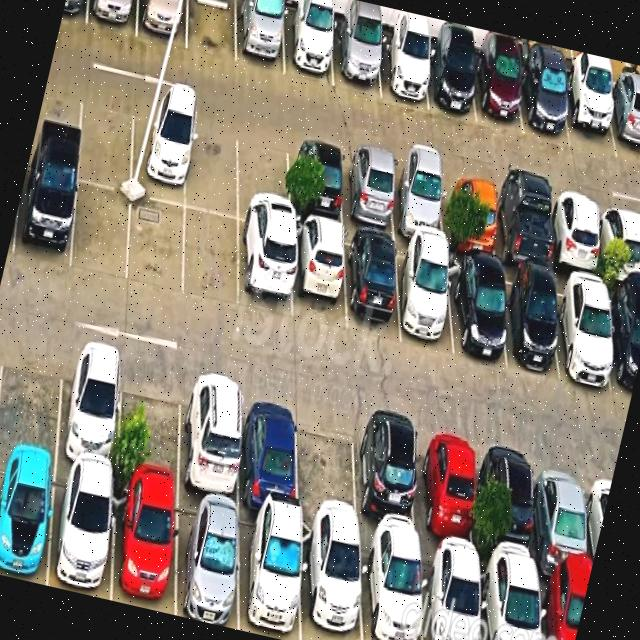empty: (117, 354, 182, 491), (0, 328, 64, 460), (298, 398, 358, 533), (71, 181, 131, 281), (77, 87, 134, 191), (127, 195, 185, 297), (183, 208, 238, 307), (185, 114, 237, 218), (238, 125, 288, 231), (186, 0, 236, 62)
occupied: (55, 339, 122, 476), (47, 464, 113, 600), (354, 411, 419, 546), (112, 479, 175, 615), (175, 493, 238, 629), (179, 369, 241, 505), (238, 508, 300, 640), (417, 422, 474, 560), (239, 383, 297, 516), (535, 448, 591, 582), (0, 453, 56, 585), (301, 521, 362, 640), (486, 436, 537, 571), (553, 275, 613, 389), (13, 164, 77, 270), (446, 257, 506, 367), (497, 267, 558, 374), (396, 243, 453, 355), (360, 538, 422, 640), (130, 100, 189, 206), (345, 231, 400, 340), (292, 220, 345, 330), (420, 548, 481, 640), (238, 222, 291, 320), (493, 181, 550, 272), (442, 170, 497, 259), (479, 560, 540, 640), (289, 137, 343, 226), (561, 73, 616, 158), (390, 158, 444, 244), (342, 148, 395, 235), (549, 192, 601, 278), (519, 60, 570, 146), (605, 285, 640, 399), (474, 51, 522, 134), (424, 44, 475, 122), (283, 7, 333, 86), (377, 33, 428, 109), (597, 202, 640, 286), (236, 0, 284, 75), (333, 22, 380, 96), (537, 572, 588, 640), (604, 82, 640, 163), (136, 0, 187, 48), (86, 0, 138, 36)
